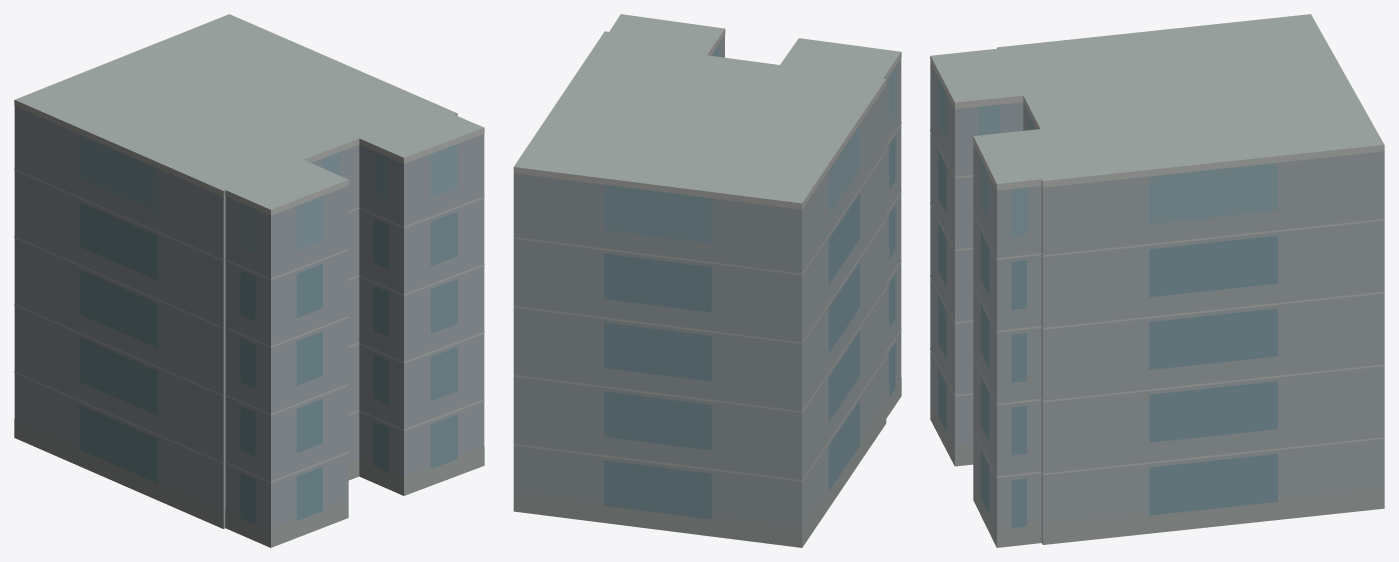
The model's file is survey-upis-32809432.glb.
The picture shows the model from 3 angles, left to right: view 1: azimuth 30°, elevation 25°; view 2: azimuth 150°, elevation 25°; view 3: azimuth 270°, elevation 25°; orthographic projection. The views are drawn at different scales.
Parts seen in each view (by area): view 1: survey-upis-32809432.tmp; view 2: survey-upis-32809432.tmp; view 3: survey-upis-32809432.tmp.
Boxes of the visible parts, bbox=[...] form: survey-upis-32809432.tmp: bbox=[14, 14, 484, 547]; survey-upis-32809432.tmp: bbox=[513, 14, 901, 547]; survey-upis-32809432.tmp: bbox=[930, 14, 1384, 547].
Size of the model in its own units: 13.56 by 13.5 by 15.3.
